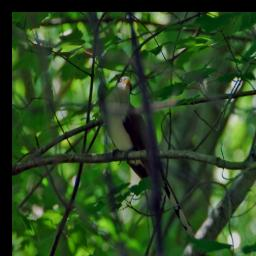Cuckoo: (100, 74, 202, 241)
